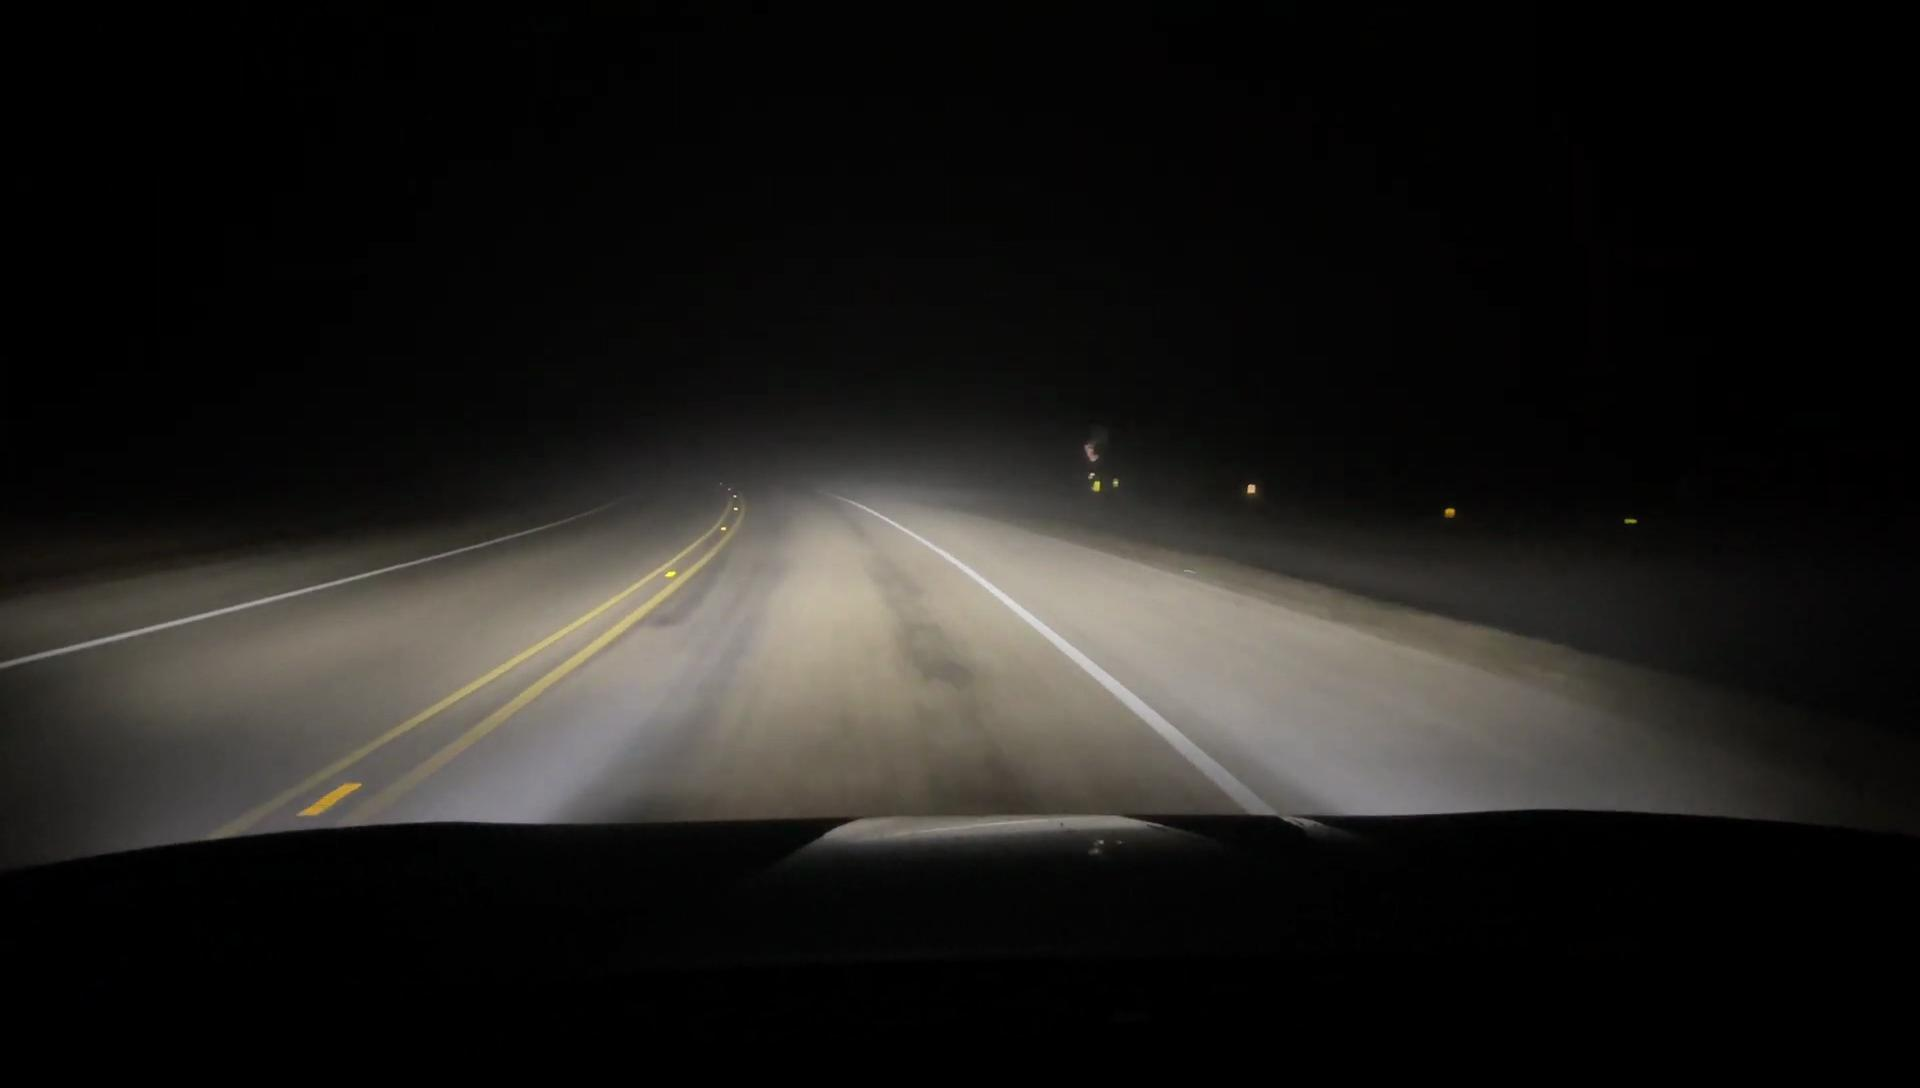road-lanes: (368, 491, 1245, 819)
